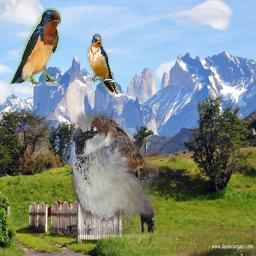Sparrow: (71, 111, 159, 235)
Swallow: (9, 8, 61, 86), (88, 34, 119, 95)
